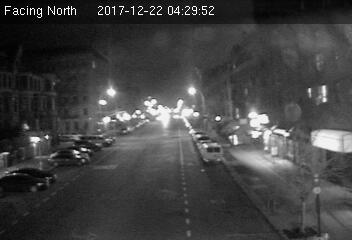truck: (201, 142, 223, 161)
